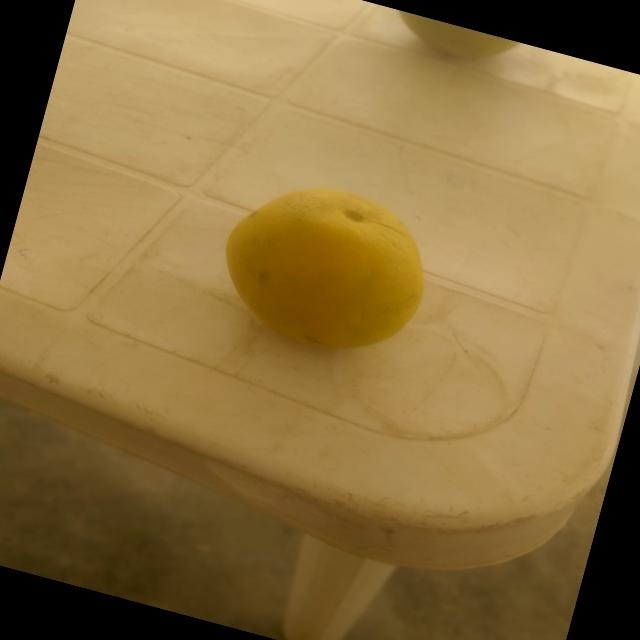agrume: (186, 140, 467, 400)
